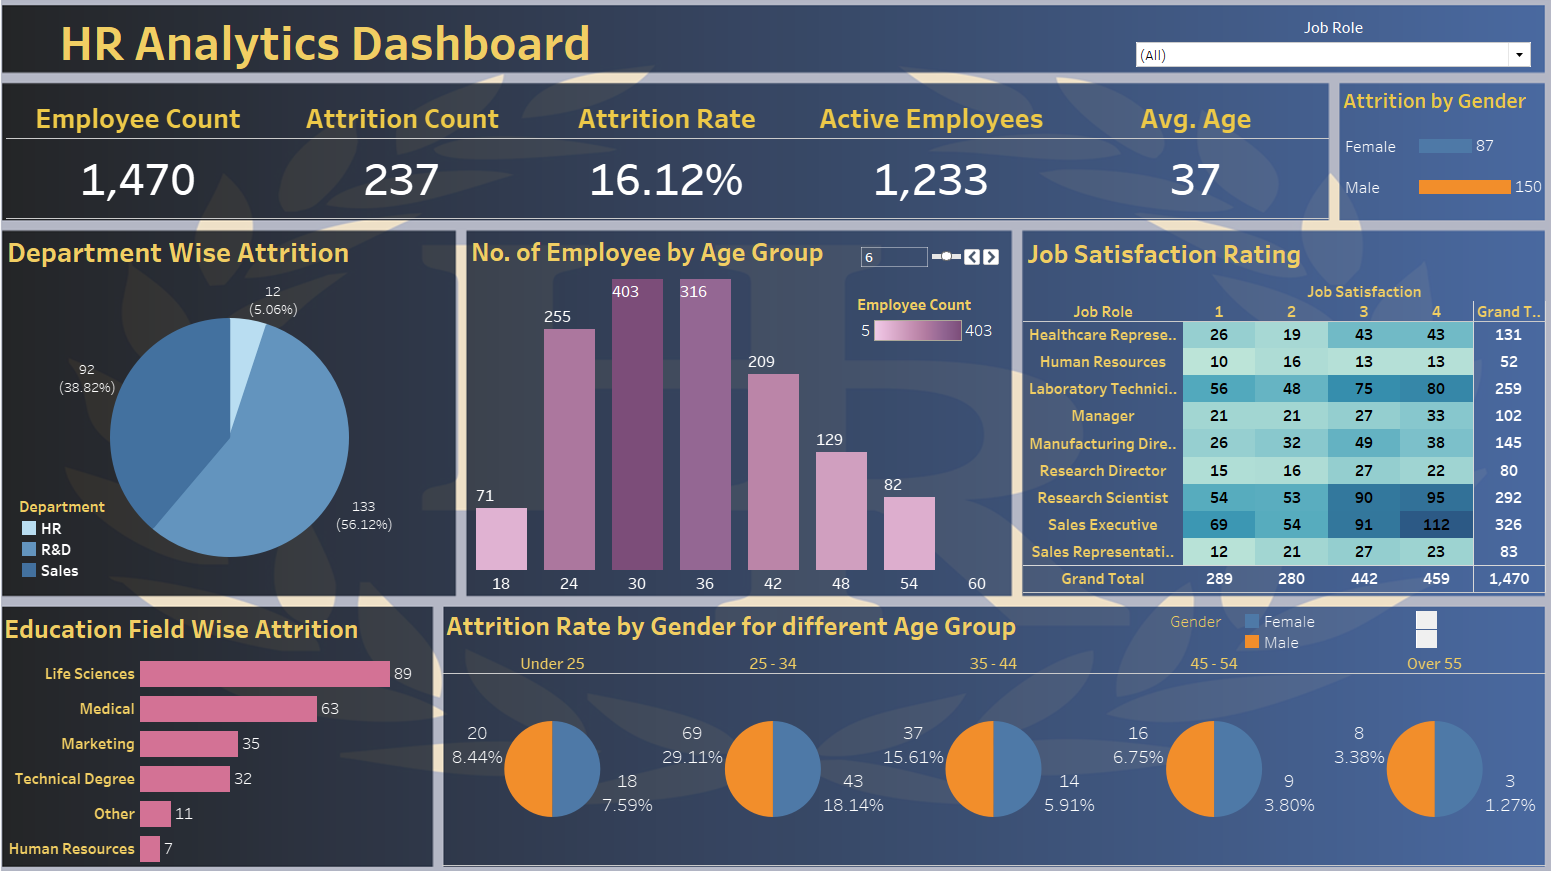

Layout of this report page (visuals, bound fields, positions):
{"tool":"tableau","page":{"name":"HR Analytics Dashboard","canvas":[1580,900],"ordinal":0},"visuals":[{"type":"image","param":"C:/Users/ASUS/OneDrive/Desktop/HR background Final.png","box":[8,8,1564,884]},{"type":"text","box":[73,21,752,67]},{"type":"filter","title":"Job Satisfaction Rating","param":"[federated.0q0vzjv0h2qw9e1a9fvxk0au6p5r].[none:Job Role:nk]","box":[1150,31,401,263]},{"type":"worksheet","title":"KPI","mark":"Automatic","box":[23,96,1323,137]},{"type":"worksheet","title":"Attrition by Gender","mark":"Bar","rows":["Gender"],"cols":["Calculation_788974398236688384"],"box":[1356,96,212,137]},{"type":"worksheet","title":"Department wise Attrition","mark":"Pie","box":[20,243,453,365]},{"type":"worksheet","title":"No. of Employee by Age Group","mark":"Automatic","rows":["Employee Count"],"cols":["Age (bin)"],"box":[484,244,545,365]},{"type":"worksheet","title":"Job Satisfaction Rating","mark":"Square","rows":["Job Role"],"cols":["Job Satisfaction"],"box":[1040,246,523,361]},{"type":"parameter","param":"[Parameters].[Parameter 1]","box":[875,258,144,31]},{"type":"legend","title":"No. of Employee by Age Group","param":"[federated.0q0vzjv0h2qw9e1a9fvxk0au6p5r].[sum:Employee Count:qk]","box":[874,308,140,88]},{"type":"legend","title":"Department wise Attrition","param":"[federated.0q0vzjv0h2qw9e1a9fvxk0au6p5r].[none:Department:nk]","box":[36,510,86,85]},{"type":"worksheet","title":"Attrition Rate by Gender for different Age Group","mark":"Pie","cols":["CF_age band"],"box":[459,618,1104,262]},{"type":"worksheet","title":"Education Field Wise Attrition","mark":"Automatic","rows":["Education Field"],"cols":["Calculation_788974398236688384"],"box":[17,621,429,259]},{"type":"legend","title":"Attrition Rate by Gender for different Age Group","param":"[federated.0q0vzjv0h2qw9e1a9fvxk0au6p5r].[none:Gender:nk]","box":[1187,625,269,37]}]}

Visuals, with their boxes in screenshot pixels (x1, y1, x2, y2), scaled from the page's 1580x900 canvas onto the 1552x871 screenshot:
image: {"x1": 8, "y1": 8, "x2": 1544, "y2": 863}
text: {"x1": 72, "y1": 20, "x2": 810, "y2": 85}
"Job Satisfaction Rating" filter: {"x1": 1130, "y1": 30, "x2": 1524, "y2": 285}
"KPI" worksheet: {"x1": 23, "y1": 93, "x2": 1322, "y2": 225}
"Attrition by Gender" worksheet (Bar marks): {"x1": 1332, "y1": 93, "x2": 1540, "y2": 225}
"Department wise Attrition" worksheet (Pie marks): {"x1": 20, "y1": 235, "x2": 465, "y2": 588}
"No. of Employee by Age Group" worksheet: {"x1": 475, "y1": 236, "x2": 1011, "y2": 589}
"Job Satisfaction Rating" worksheet (Square marks): {"x1": 1022, "y1": 238, "x2": 1535, "y2": 587}
parameter: {"x1": 859, "y1": 250, "x2": 1001, "y2": 280}
"No. of Employee by Age Group" legend: {"x1": 859, "y1": 298, "x2": 996, "y2": 383}
"Department wise Attrition" legend: {"x1": 35, "y1": 494, "x2": 120, "y2": 576}
"Attrition Rate by Gender for different Age Group" worksheet (Pie marks): {"x1": 451, "y1": 598, "x2": 1535, "y2": 852}
"Education Field Wise Attrition" worksheet: {"x1": 17, "y1": 601, "x2": 438, "y2": 852}
"Attrition Rate by Gender for different Age Group" legend: {"x1": 1166, "y1": 605, "x2": 1430, "y2": 641}
